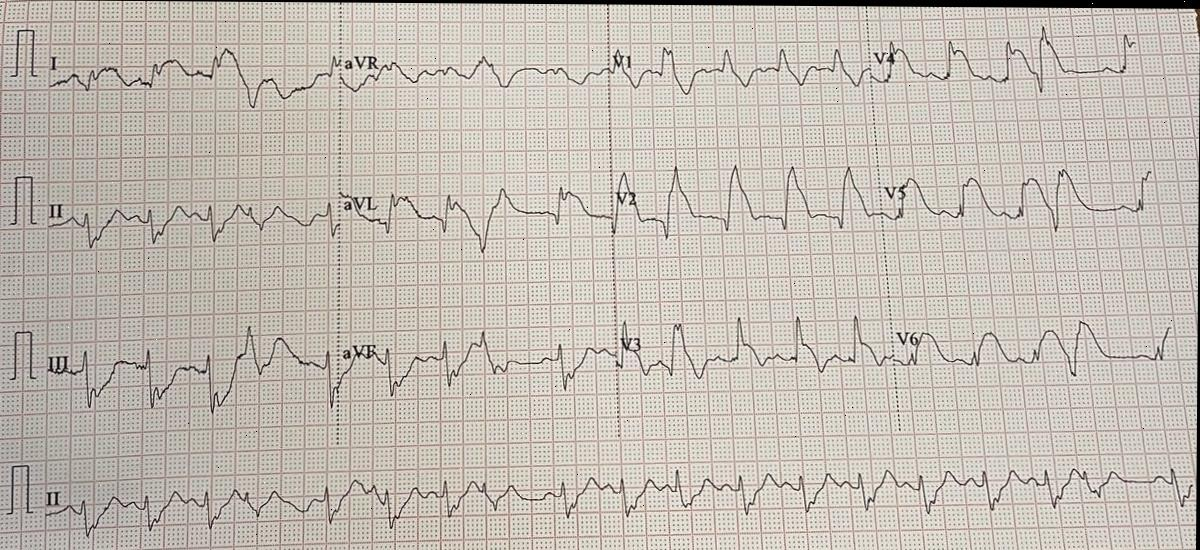Lead_I: (39, 178, 344, 260), (41, 44, 343, 113)
